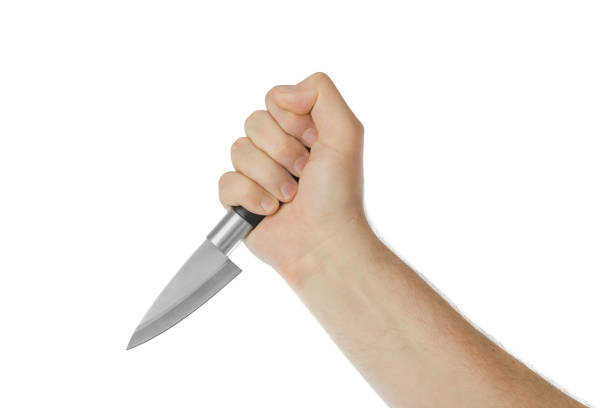knife: (123, 202, 265, 353)
